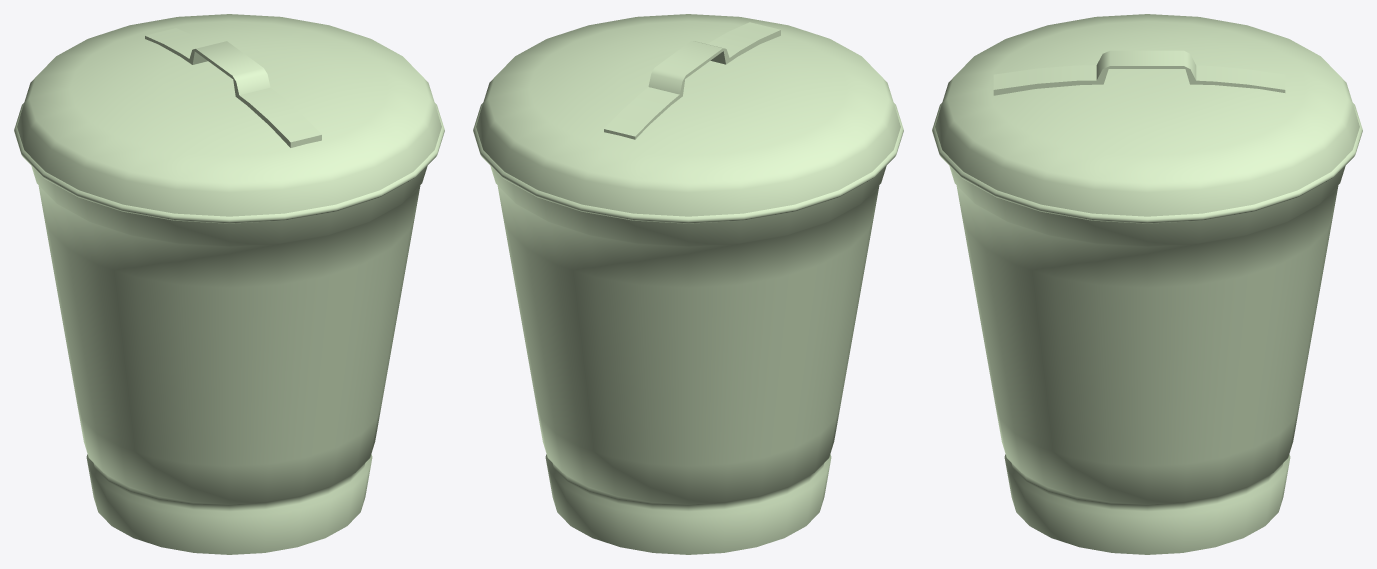
Rendered from SM_Trashcan_01.glb.
The picture shows the model from 3 angles, left to right: view 1: azimuth 30°, elevation 25°; view 2: azimuth 150°, elevation 25°; view 3: azimuth 270°, elevation 25°; orthographic projection.
Parts seen in each view (by area): view 1: SM_trashcan_01, lid; view 2: SM_trashcan_01, lid; view 3: SM_trashcan_01, lid.
Part boxes in pixels (x1,y1,x2,y2): SM_trashcan_01: (31,166,427,554); lid: (14,14,444,223); SM_trashcan_01: (490,166,886,554); lid: (473,14,903,223); SM_trashcan_01: (949,166,1345,554); lid: (932,14,1362,223).
Size of the model in its own units: 1.42 by 1.6 by 1.42.
